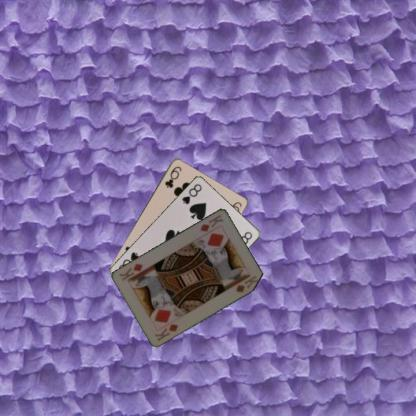6c: (162, 163, 183, 189)
8s: (180, 181, 202, 206)
Kd: (152, 321, 180, 343), (198, 212, 224, 233)
